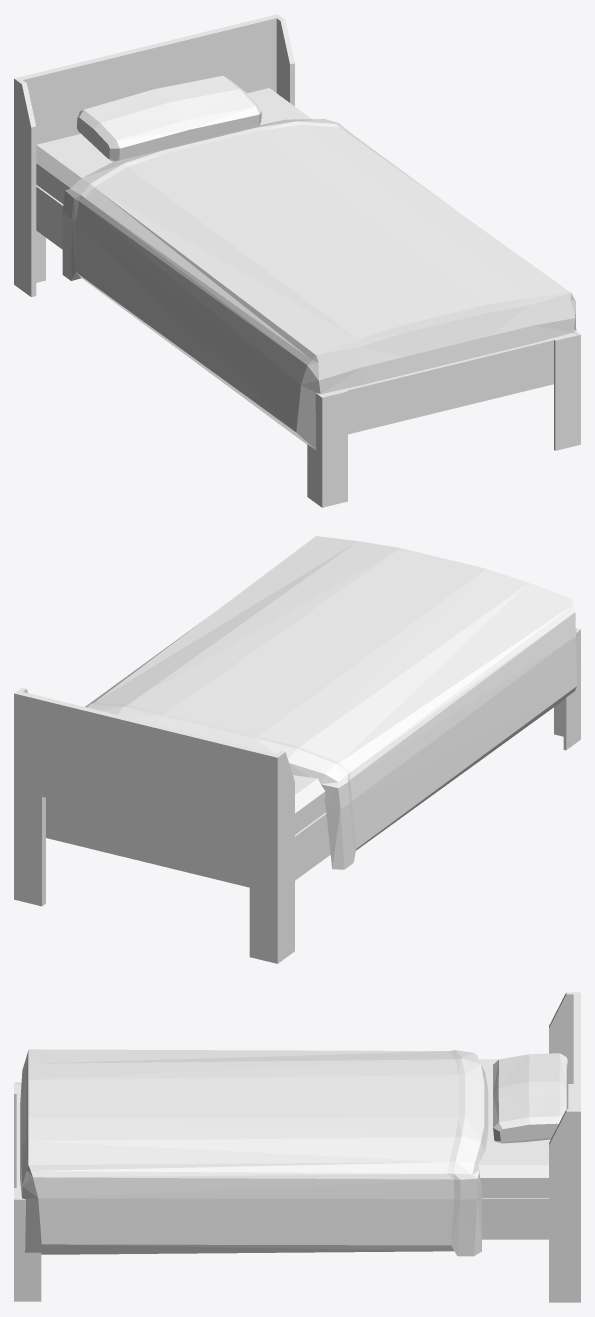
Rendered from Prop_Bed_01.glb.
3 renders of one model, top to bottom at view 1: azimuth 30°, elevation 25°; view 2: azimuth 150°, elevation 25°; view 3: azimuth 270°, elevation 25°, orthographic. The views are drawn at different scales.
Visible parts, largest first — view 1: Prop_Bed_01; view 2: Prop_Bed_01; view 3: Prop_Bed_01.
Part boxes in pixels (bbox=[...]): Prop_Bed_01: bbox=[14, 14, 580, 507]; Prop_Bed_01: bbox=[14, 536, 580, 963]; Prop_Bed_01: bbox=[14, 992, 580, 1302].
Bounding box in the file's own units: 1.09 × 0.7592 × 2.04.
Materials: 1 (1 with a texture image).
